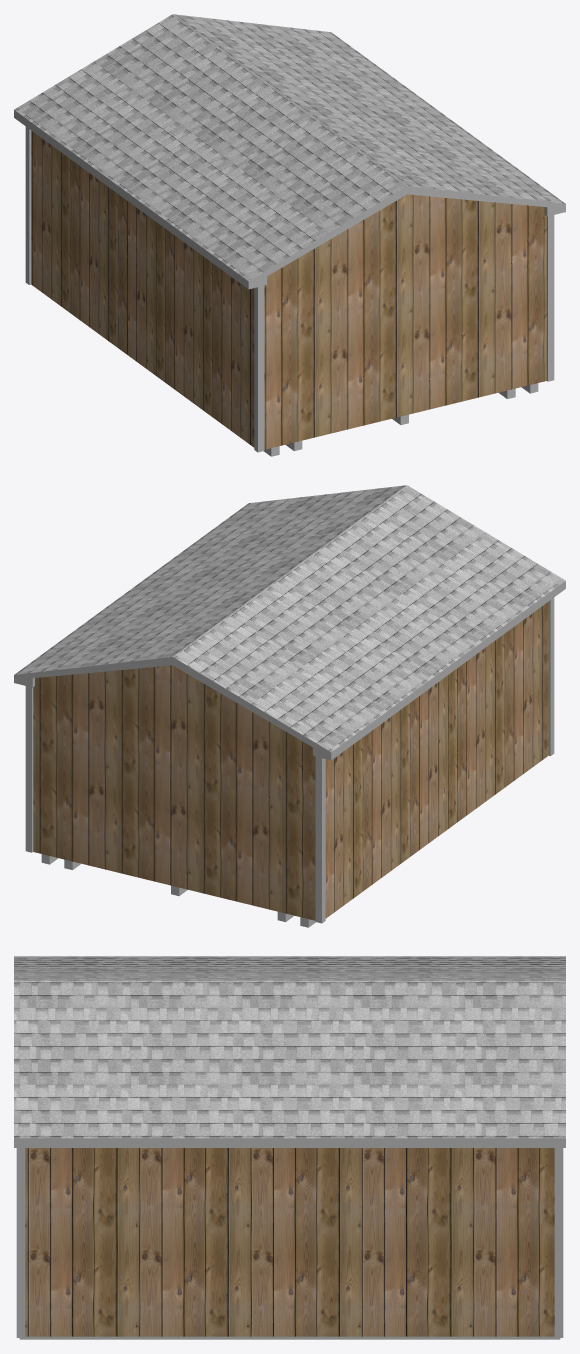
The model's file is A-frame_12x16.obj.
3 views of the same model, one above another, from view 1: azimuth 30°, elevation 25°; view 2: azimuth 150°, elevation 25°; view 3: azimuth 270°, elevation 25° (orthographic). The views are drawn at different scales.
Visible parts, largest first — view 1: Shed, Roof, Sides, Trim, Floor; view 2: Shed, Roof, Sides, Trim, Floor; view 3: Roof, Shed, Sides, Trim, Floor.
Part boxes in pixels (x1,y1,x2,y2): Shed: [31, 131, 546, 449]; Roof: [14, 14, 565, 281]; Sides: [14, 110, 565, 289]; Trim: [25, 126, 554, 452]; Floor: [264, 383, 538, 456]; Shed: [33, 602, 548, 920]; Roof: [14, 485, 565, 752]; Sides: [14, 581, 565, 760]; Trim: [25, 597, 554, 923]; Floor: [41, 854, 315, 927]; Roof: [14, 956, 565, 1138]; Shed: [25, 1148, 554, 1336]; Sides: [14, 1138, 565, 1147]; Trim: [16, 1148, 563, 1337]; Floor: [19, 1336, 560, 1339].
Size of the model in its own units: 3.89 by 2.81 by 4.98.
